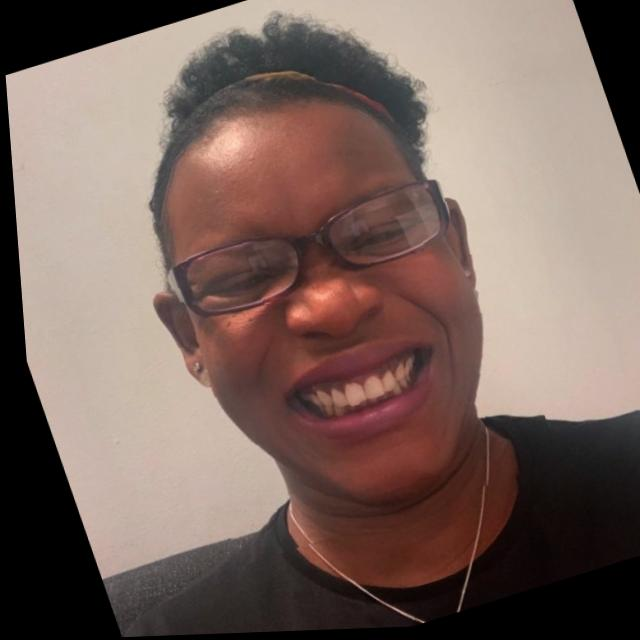happy: (60, 0, 556, 572)
